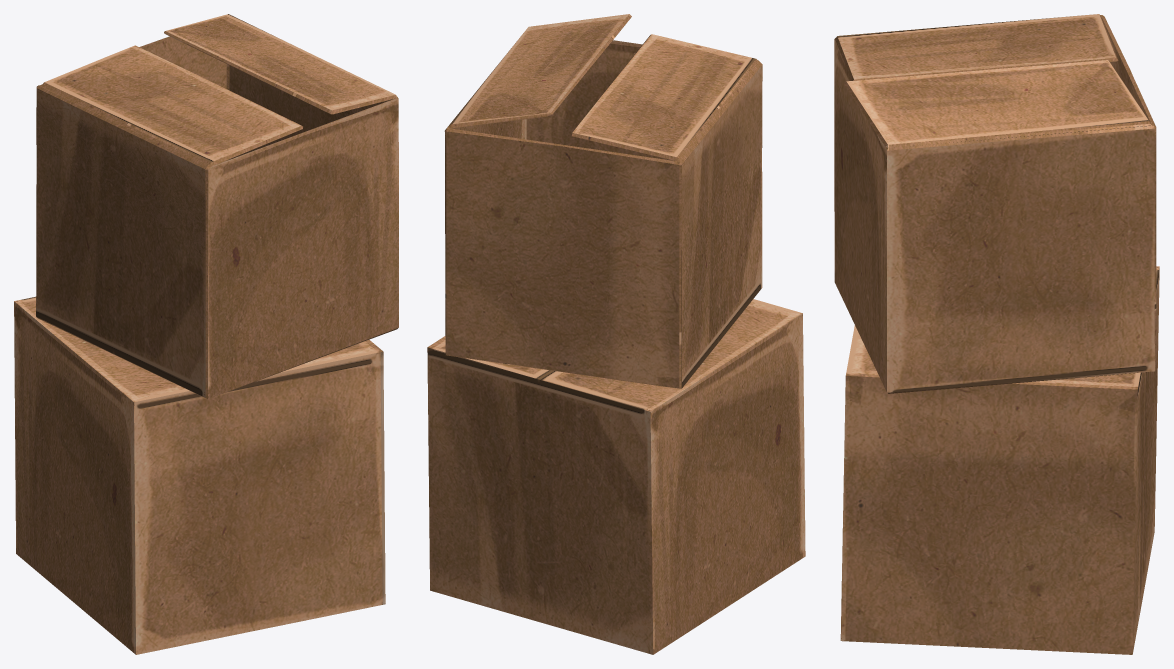
The model's file is коробочки.glb.
3 views of the same model, side by side, from view 1: azimuth 30°, elevation 25°; view 2: azimuth 150°, elevation 25°; view 3: azimuth 270°, elevation 25° (orthographic). The views are drawn at different scales.
Visible parts, largest first — view 1: коробочка открытая, коробочка закрытая; view 2: коробочка открытая, коробочка закрытая; view 3: коробочка открытая, коробочка закрытая.
Boxes of the visible parts, left/top/right/bottom form: коробочка открытая: left=36, top=14, right=398, bottom=398; коробочка закрытая: left=14, top=296, right=385, bottom=654; коробочка открытая: left=444, top=14, right=762, bottom=388; коробочка закрытая: left=427, top=299, right=805, bottom=654; коробочка открытая: left=834, top=14, right=1156, bottom=393; коробочка закрытая: left=840, top=266, right=1159, bottom=654.
Size of the model in its own units: 0.2624 by 0.4648 by 0.2549.
Materials: 2 (2 with a texture image).
